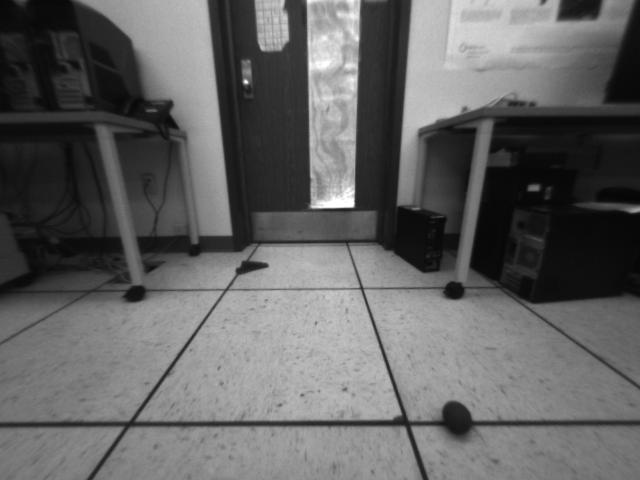dogtoy: (432, 392, 483, 441)
